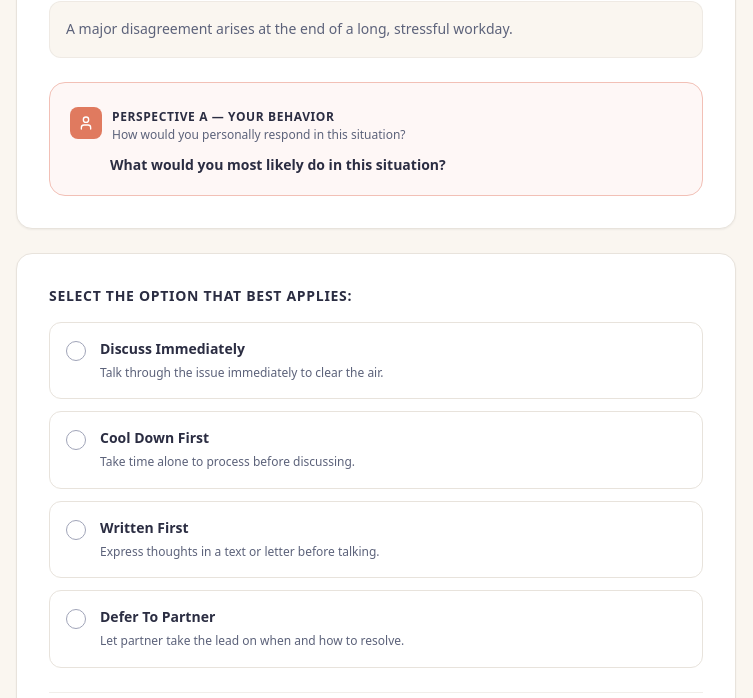
it: AssessmentPage Component — Phase 7.4 Requirements › 6. Self-response submission
The width and height of the screenshot is (753, 698).
(page scrolled)
Expected: the text "Perspective A — Your Behavior" is shown, left=112, top=108, right=334, bottom=125
What coordinates should you click on to do the following:
click the text "Discuss Immediately"
I would click on:
 (376, 361)
Its box is left=49, top=322, right=703, bottom=399.
(page scrolled)
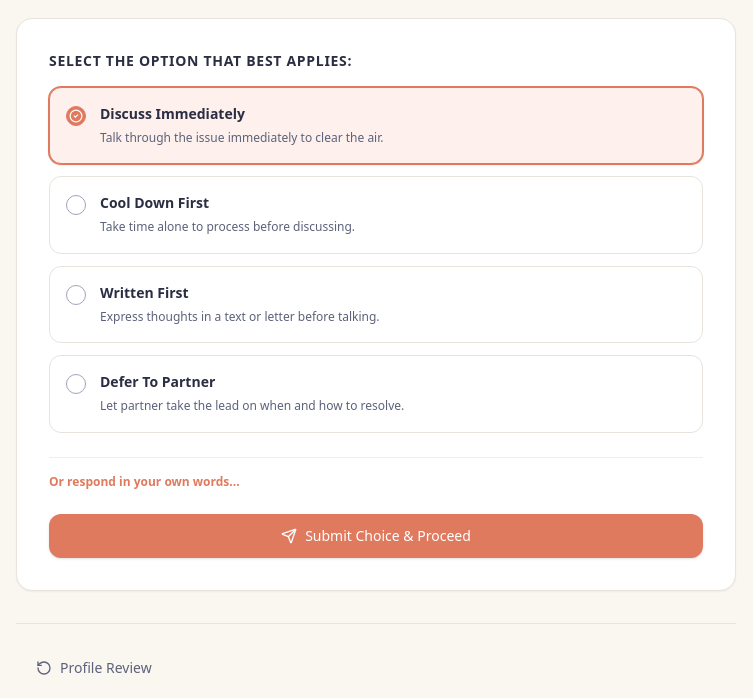
What coordinates should you click on to do the following:
click the button "Submit Choice & Proceed"
I would click on:
 (376, 536)
Its box is left=49, top=514, right=703, bottom=558.
(page scrolled)
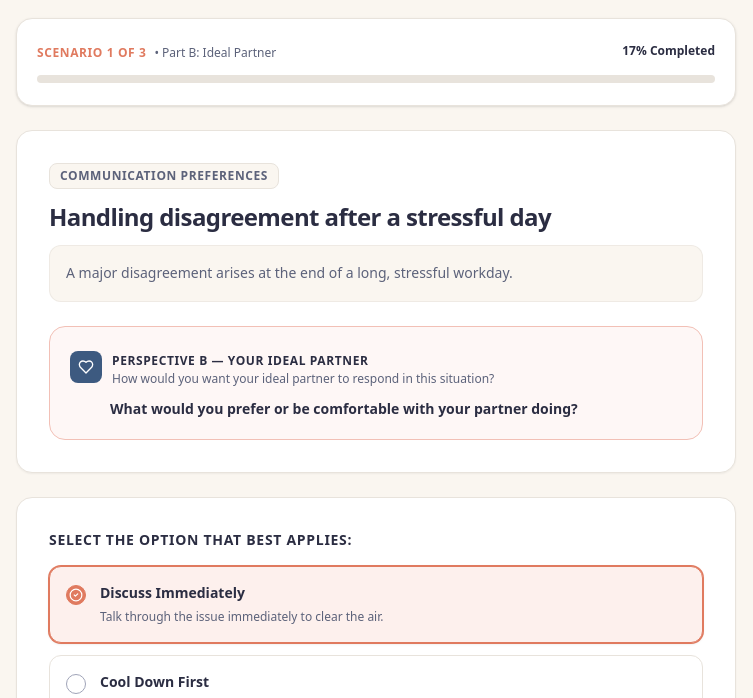
Result: the text "Perspective B — Your Ideal Partner" is shown at left=112, top=352, right=368, bottom=369
